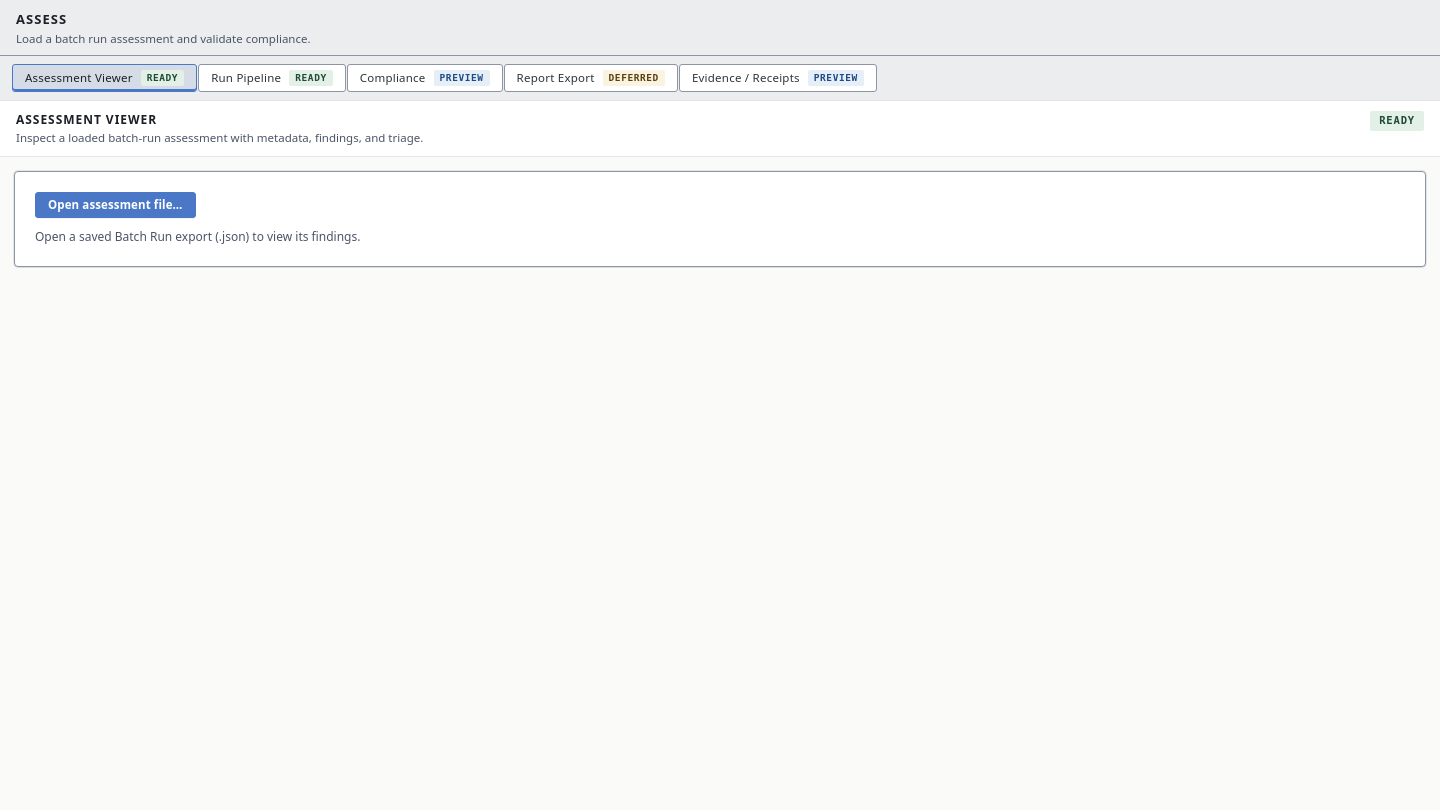
Scenario: AssessPanel › loaded → click Close assessment → returns to empty
What coordinates should you click on to do the following:
click the button "Open assessment file…"
I would click on:
 (115, 205)
Its box is [35, 192, 196, 218].
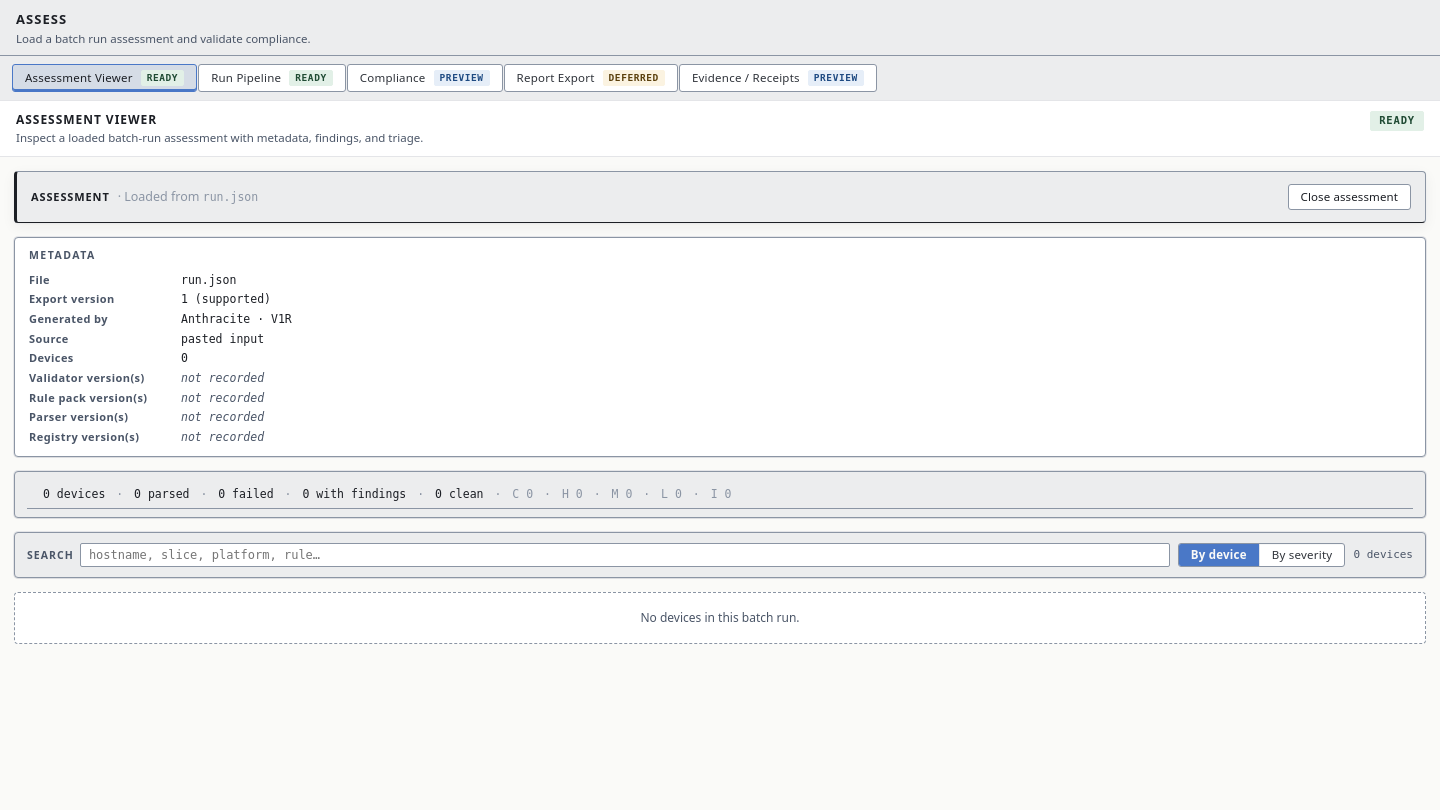
Now the button "Close assessment" is shown
What coordinates should you click on to do the following:
click the button "Close assessment"
I would click on:
 (1349, 197)
Its box is [1288, 184, 1411, 210].
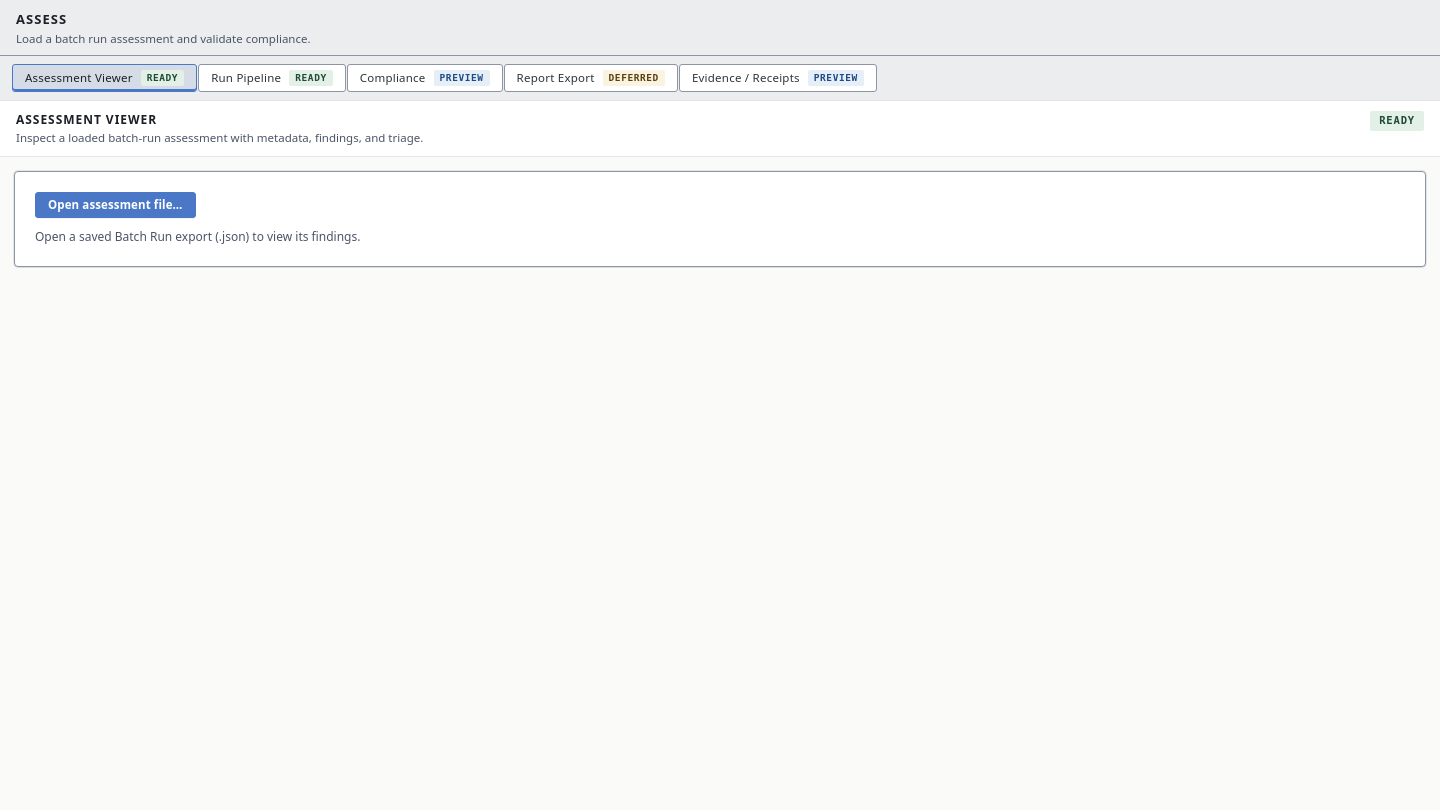
Now the button "Open assessment file…" is shown, box [35, 192, 196, 218]
